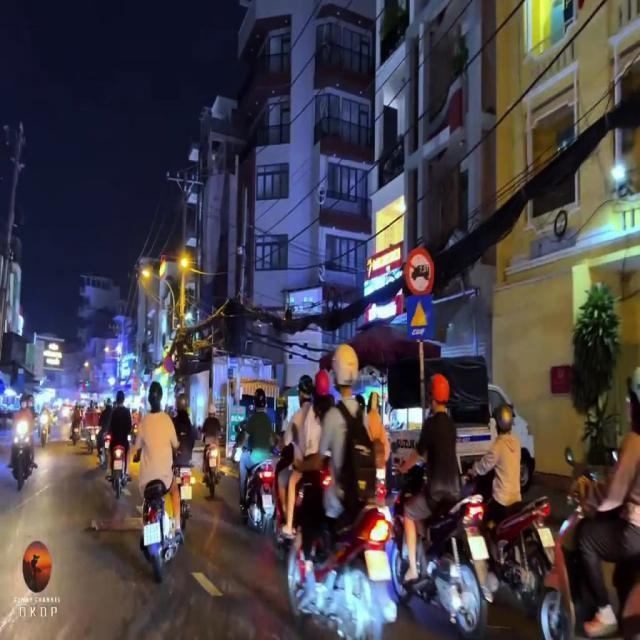106-cam-oto-tai: (407, 249, 437, 291)
442-cho: (406, 294, 434, 342)
